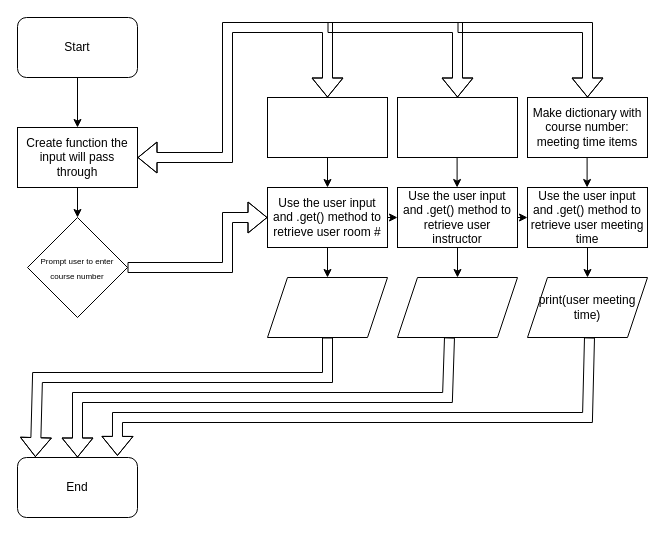
This 665x535 diagram has some shape labels left out. The centre of each missing label's shape, as x and y in pixels:
Make dictionary with course number: instructor items: pixel 457 127
Make dictionary with course number: room items: pixel 327 127
print(user instuctor): pixel 457 307
print(user room number): pixel 327 307
